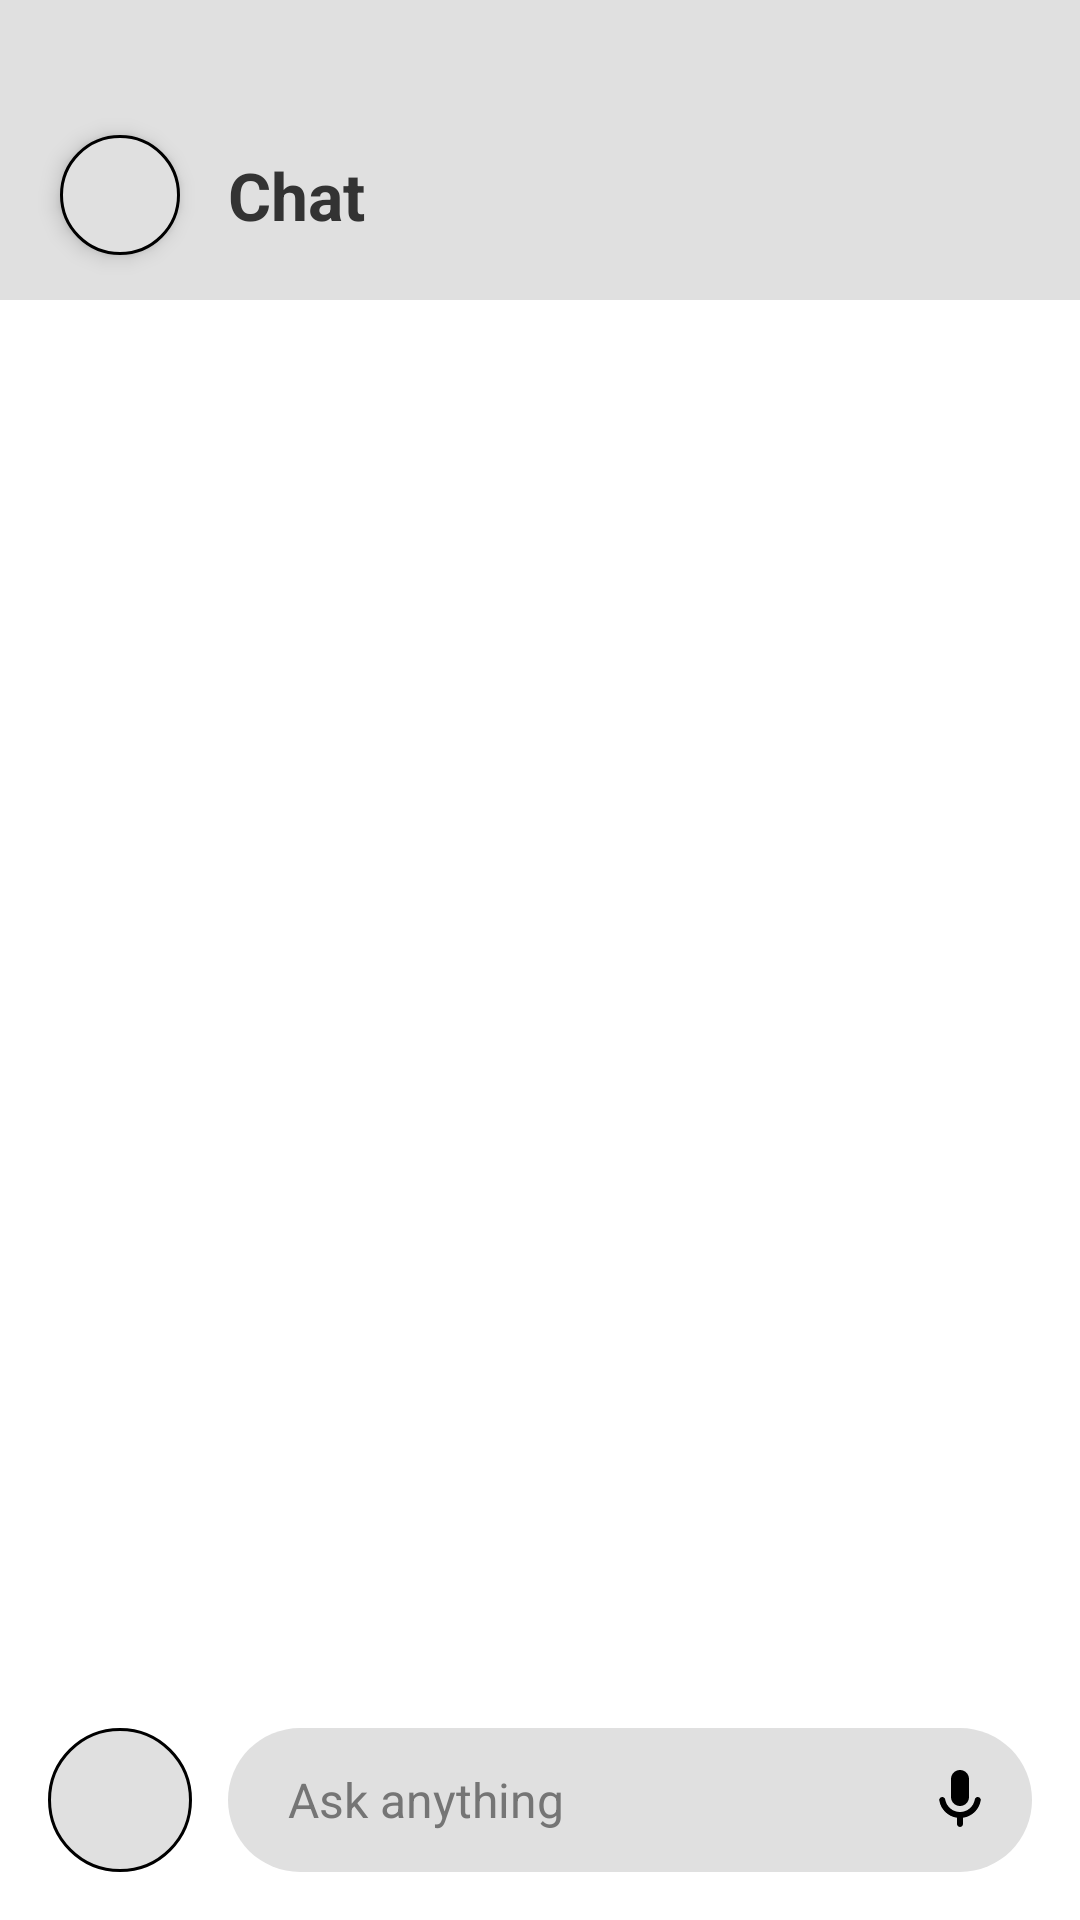

Named icons in this screenshot (1080 × 1920) and their centers, (x,y):
mic: (960,1798)
